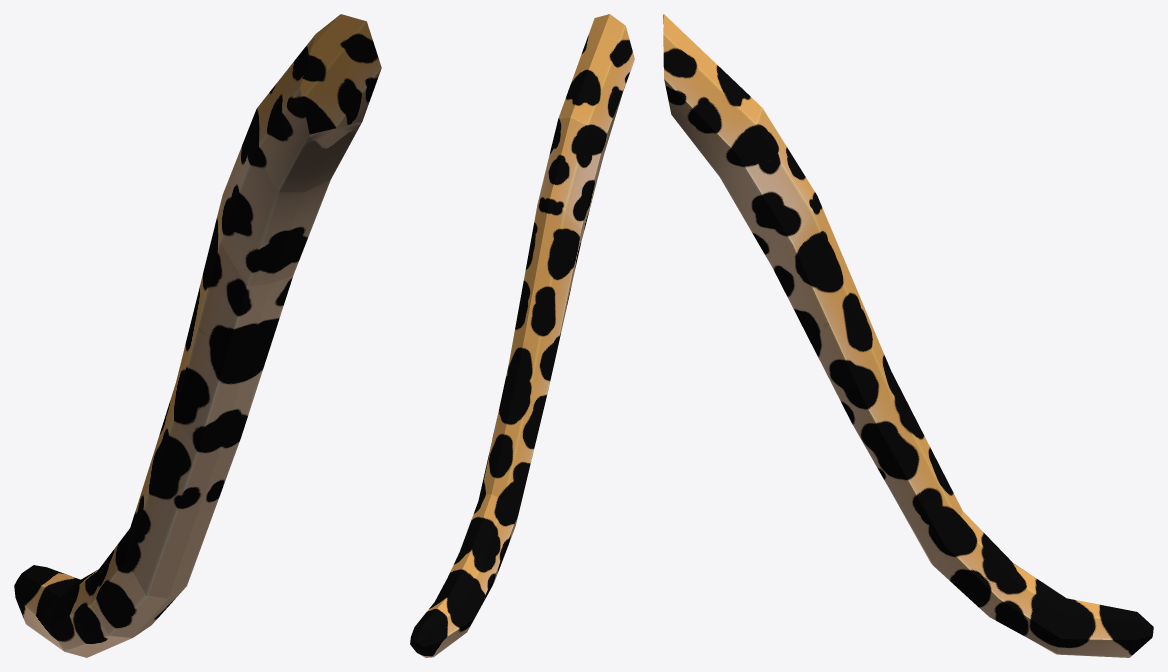
File: ColaJa.fbx
3 renders of one model, left to right at view 1: azimuth 30°, elevation 25°; view 2: azimuth 150°, elevation 25°; view 3: azimuth 270°, elevation 25°, orthographic. The views are drawn at different scales.
Parts seen in each view (by area): view 1: Jaguar.005; view 2: Jaguar.005; view 3: Jaguar.005.
Boxes of the visible parts, left/top/right/bottom form: Jaguar.005: left=14, top=14, right=381, bottom=657; Jaguar.005: left=410, top=14, right=634, bottom=657; Jaguar.005: left=663, top=14, right=1153, bottom=657.
Bounding box in the file's own units: 53.18 × 517 × 358.
